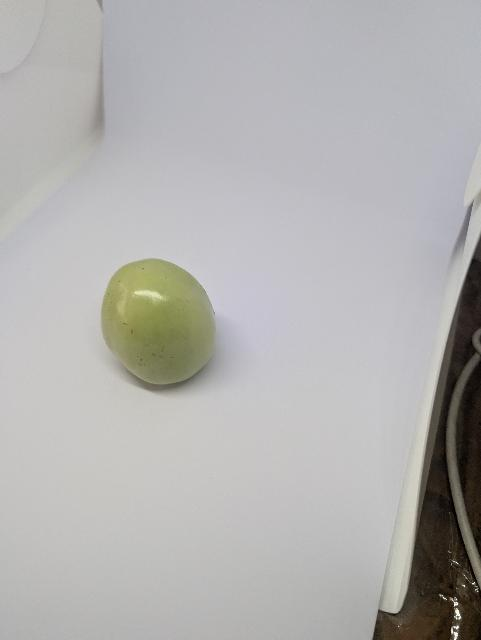green: (95, 251, 224, 395)
